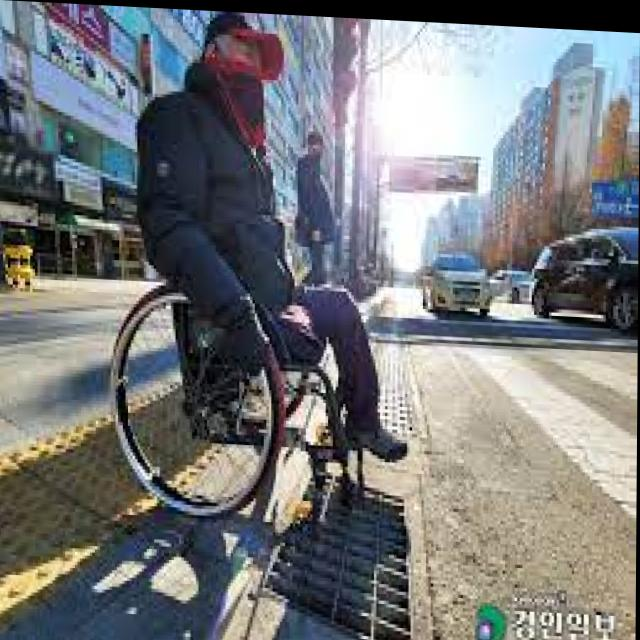wheelchair: (105, 4, 410, 528)
